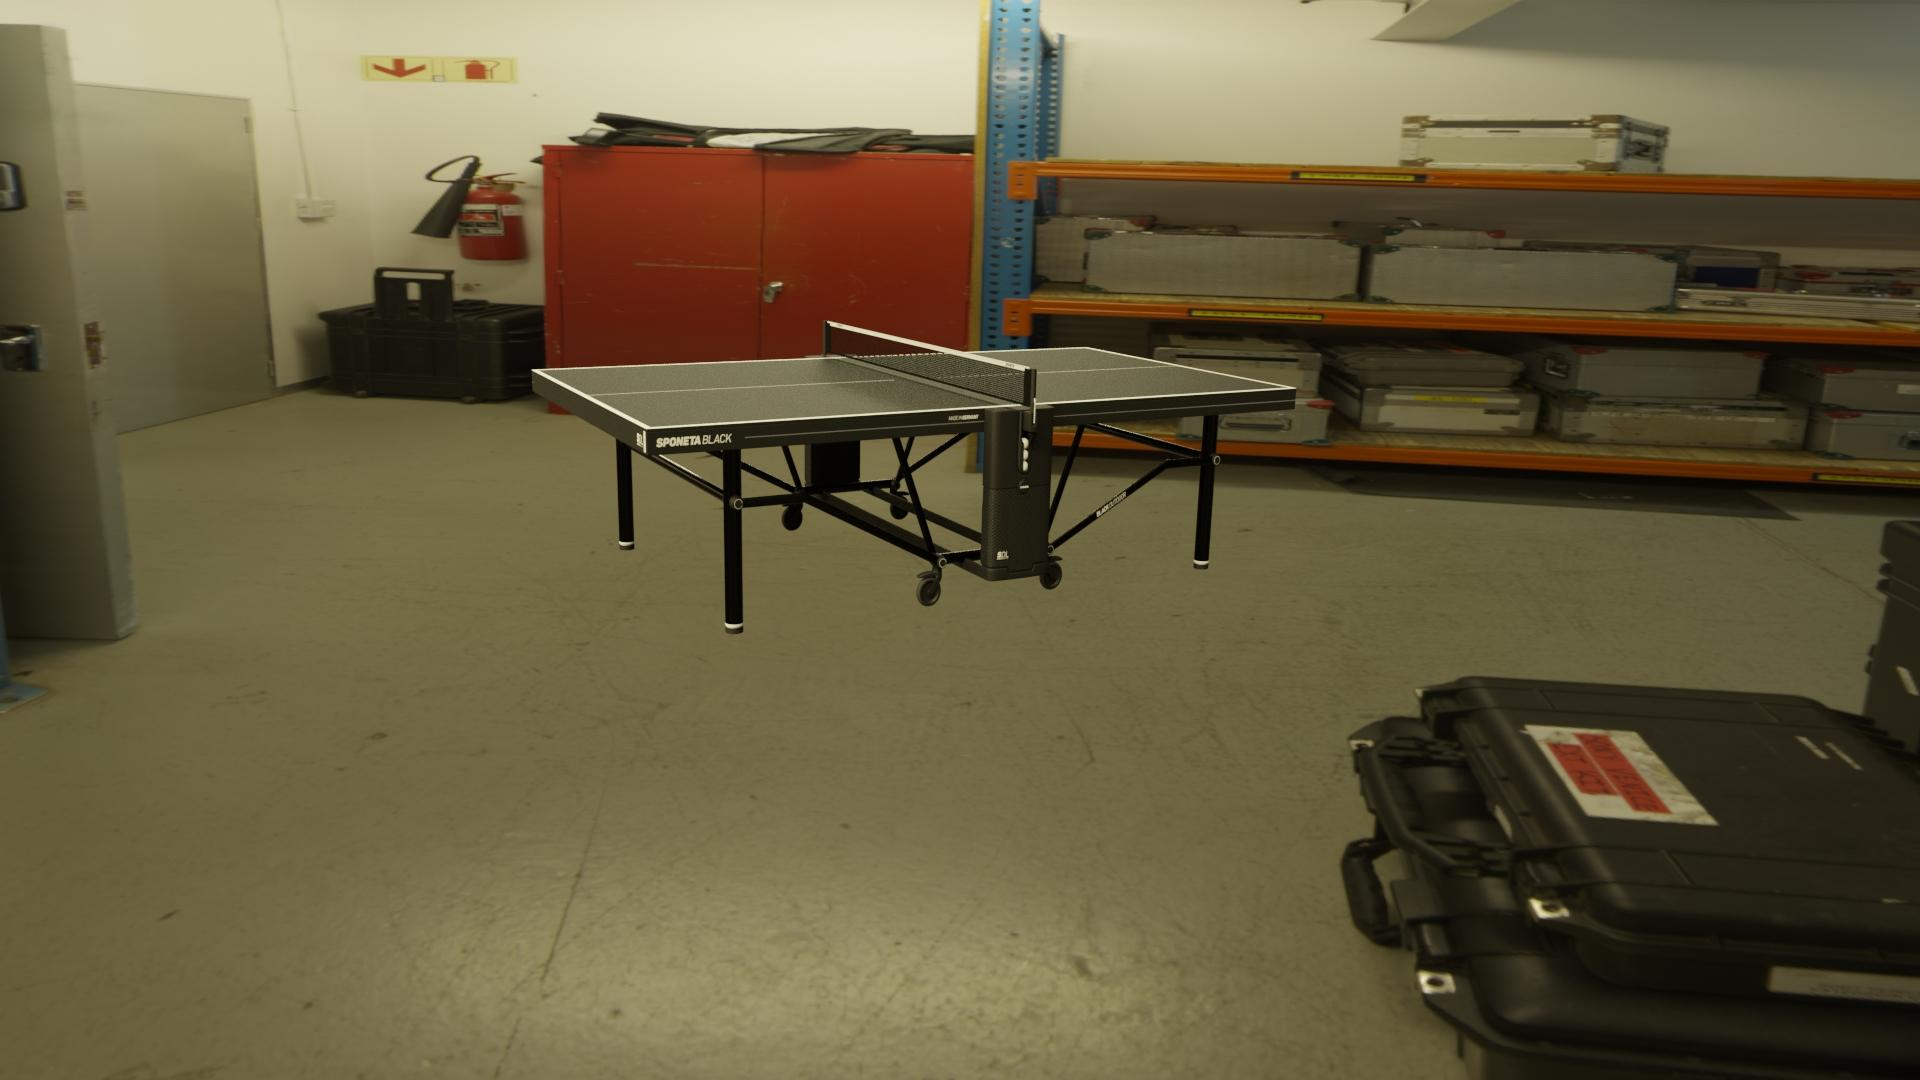table: (538, 348, 1290, 427)
